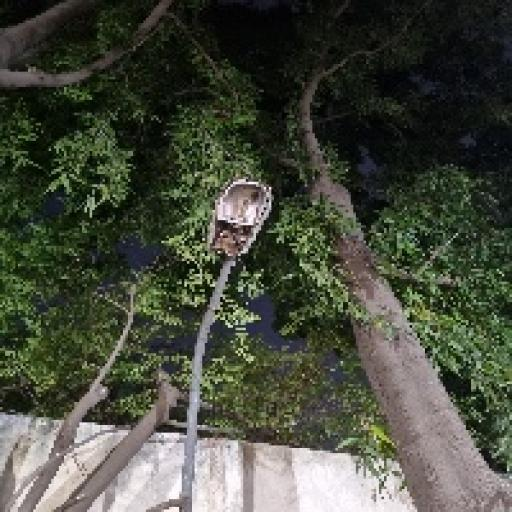Not Working: (187, 163, 284, 273)
